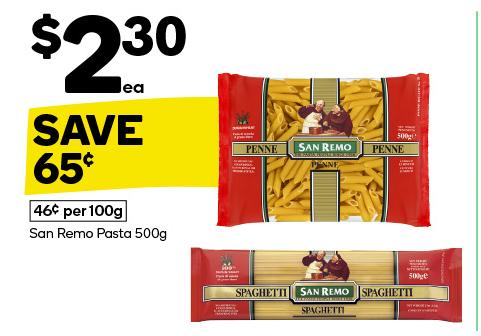description_block: (19, 224, 173, 246)
price_main: (7, 5, 191, 96)
product_image_block: (195, 56, 470, 328)
promo_text_block: (9, 101, 222, 193)
unit_price_block: (20, 198, 134, 225)
